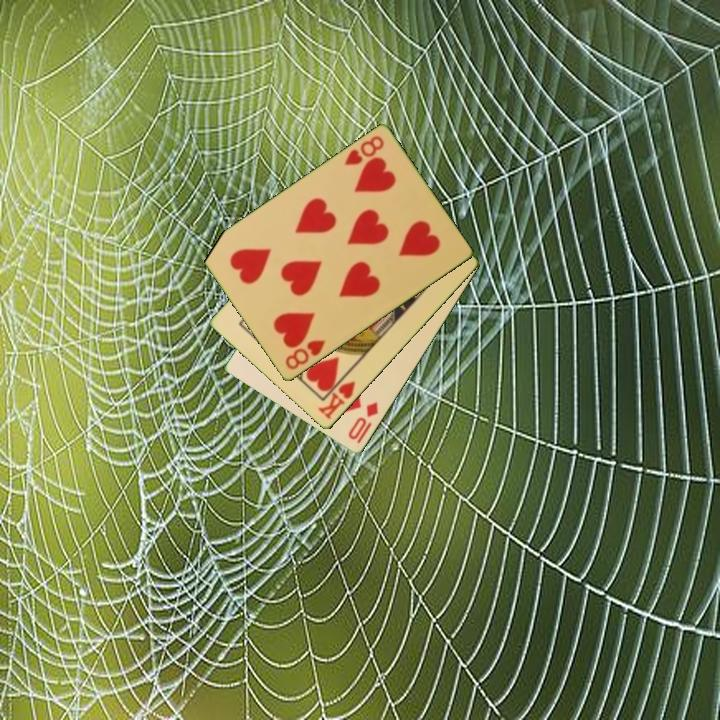10d: (345, 398, 381, 447)
8h: (340, 132, 387, 169), (281, 337, 329, 373)
Kh: (314, 369, 358, 423)
